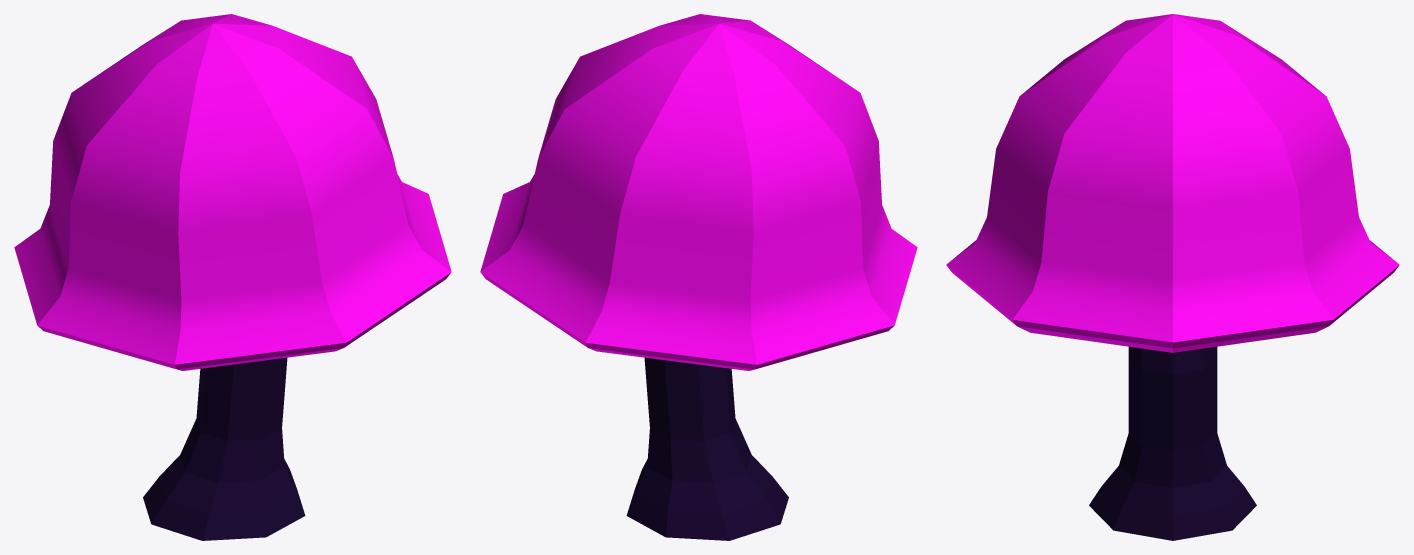
Rendered from Mushroom_1.fbx.
3 views of the same model, side by side, from view 1: azimuth 30°, elevation 25°; view 2: azimuth 150°, elevation 25°; view 3: azimuth 270°, elevation 25° (orthographic).
Visible parts, largest first — view 1: Mushroom_1; view 2: Mushroom_1; view 3: Mushroom_1.
Boxes of the visible parts, <box> form: Mushroom_1: <box>14,14,451,540</box>; Mushroom_1: <box>480,14,917,540</box>; Mushroom_1: <box>946,14,1399,540</box>.
Size of the model in its own units: 32.85 by 38.93 by 32.98.
